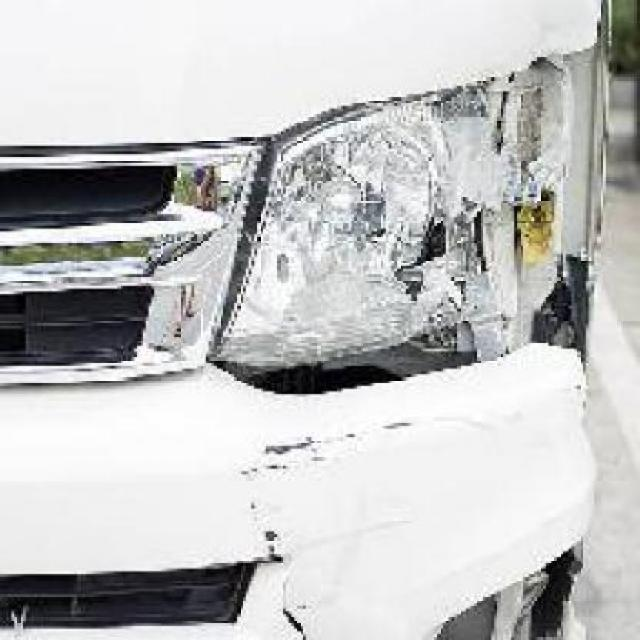damaged-head-light: (258, 49, 614, 368)
dent-or-scratch: (248, 422, 466, 464)
